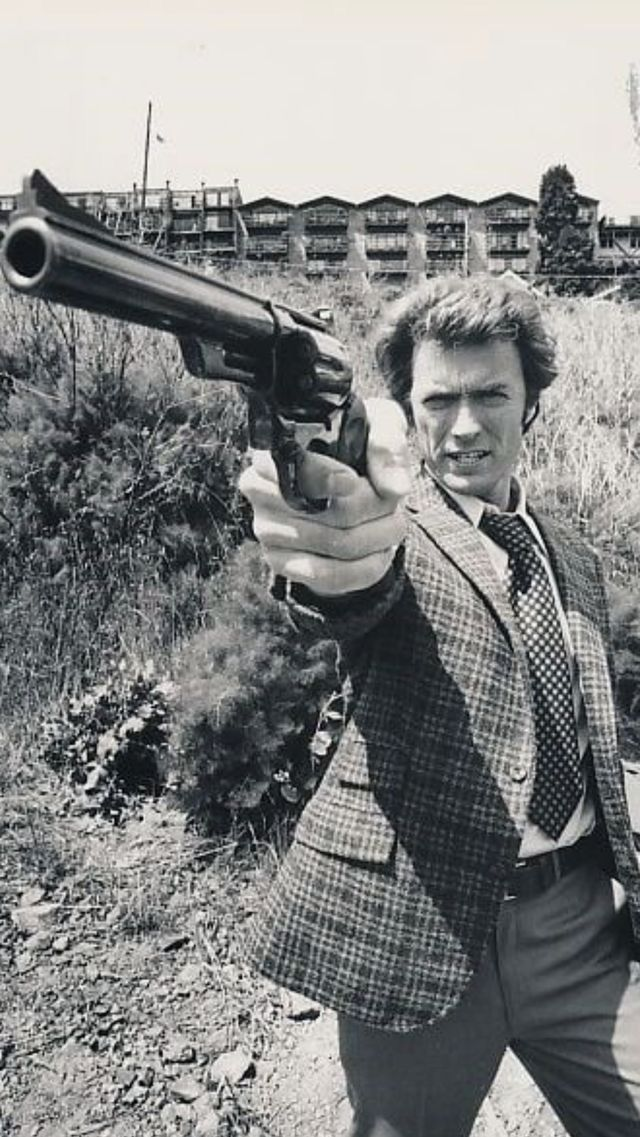Revolver: (0, 133, 402, 511)
